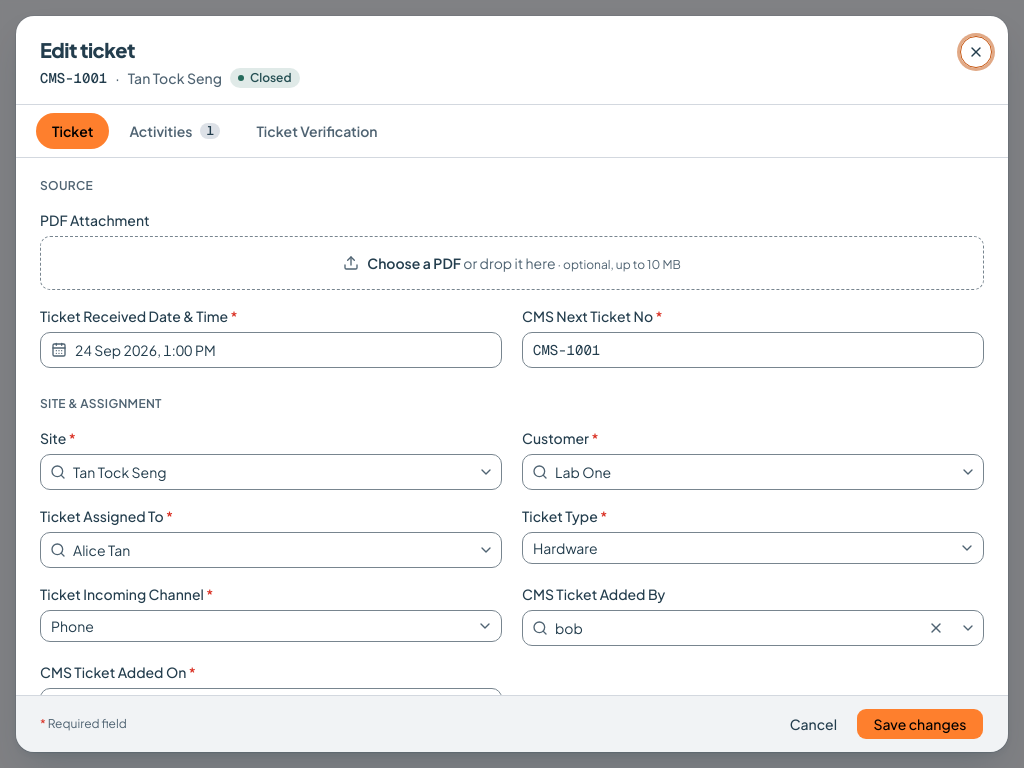
Test: overlapping time (409 confirmation) › a malformed 409 is a generic error, not a confirmation
The image size is (1024, 768).
Step 1. Click the button "Save changes" → (920, 724), box [856,708,984,740]
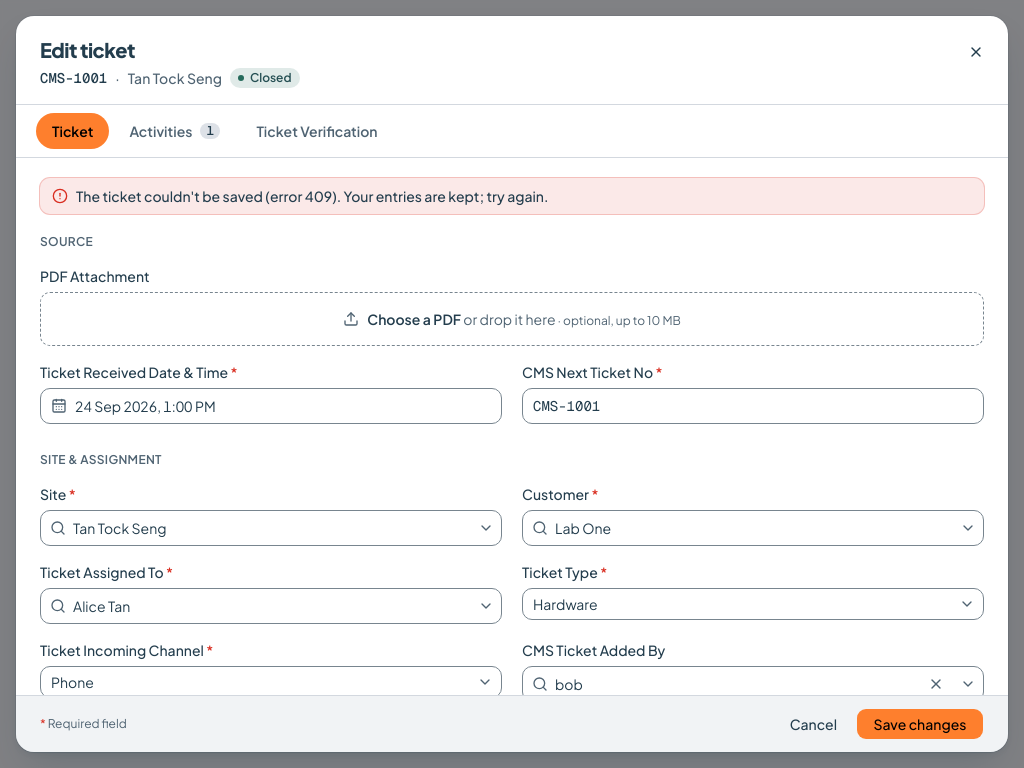
Expected: the list item "The ticket couldn't be saved (error 409). Your entries are kept; try again." is shown, [76,186,548,206]
